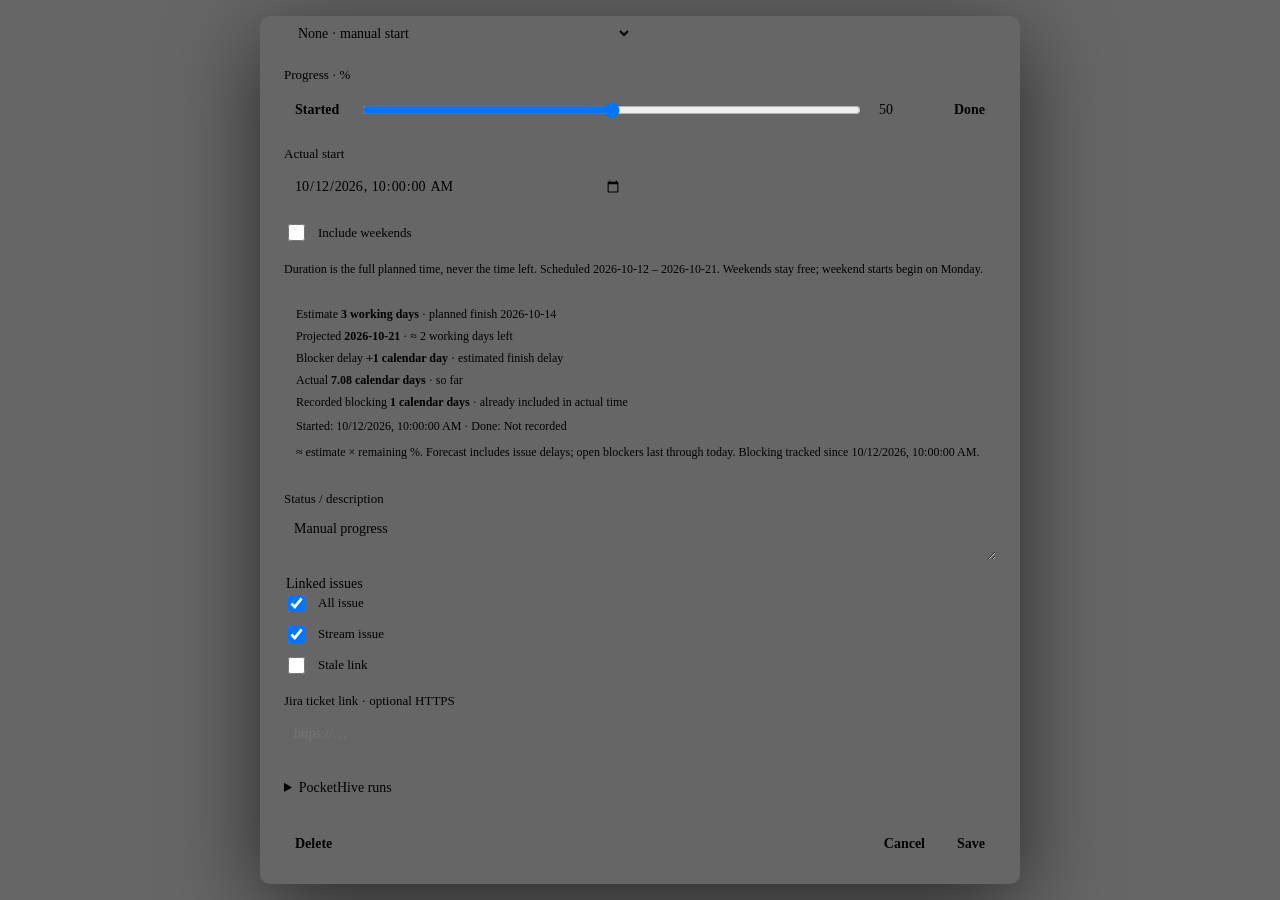
Scenario: activity timing with pending issue links › does not erase closed recorded blocking when the current blocker is unlinked
(page scrolled)
Click the checkbox labelled "All issue". click: (296, 603)
box: [288,595,305,612]
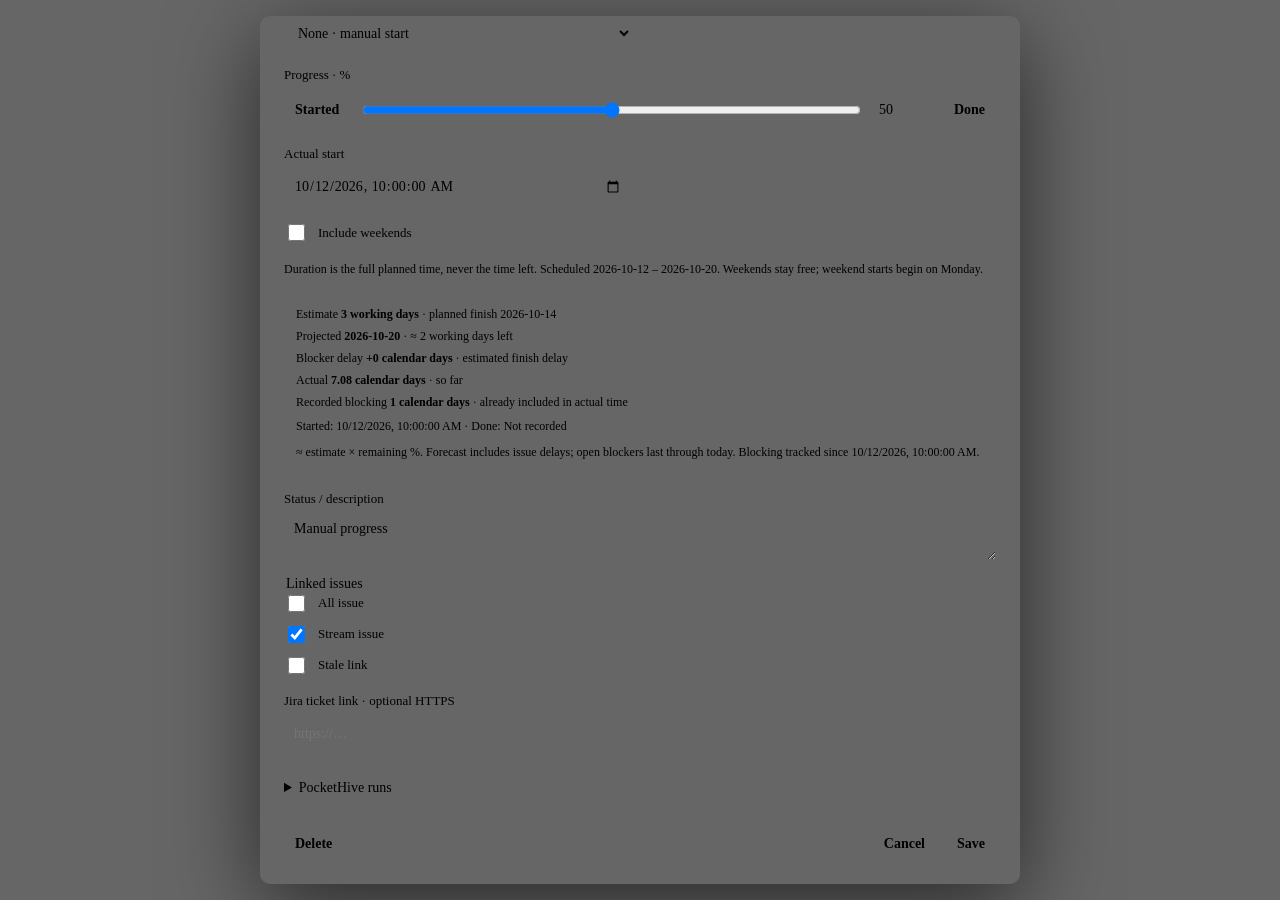
Check: the text "Projected 2026-10-20 · ≈ 2 working days left" is shown, box [296,329,513,343]
